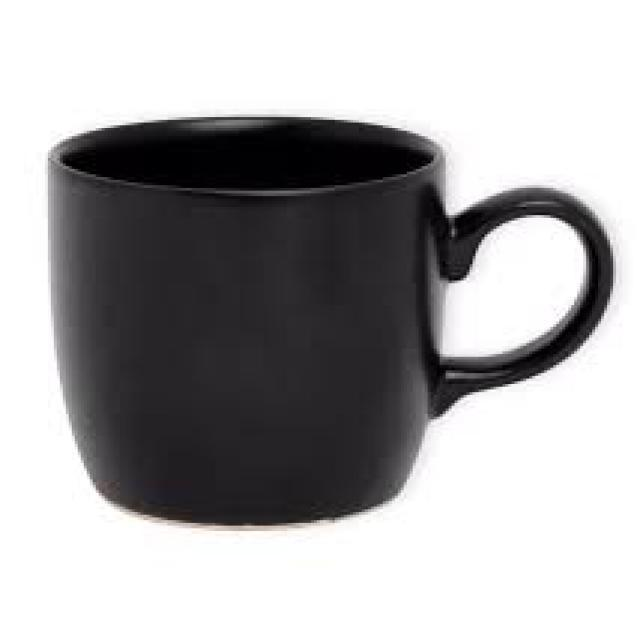taza: (47, 115, 615, 526)
